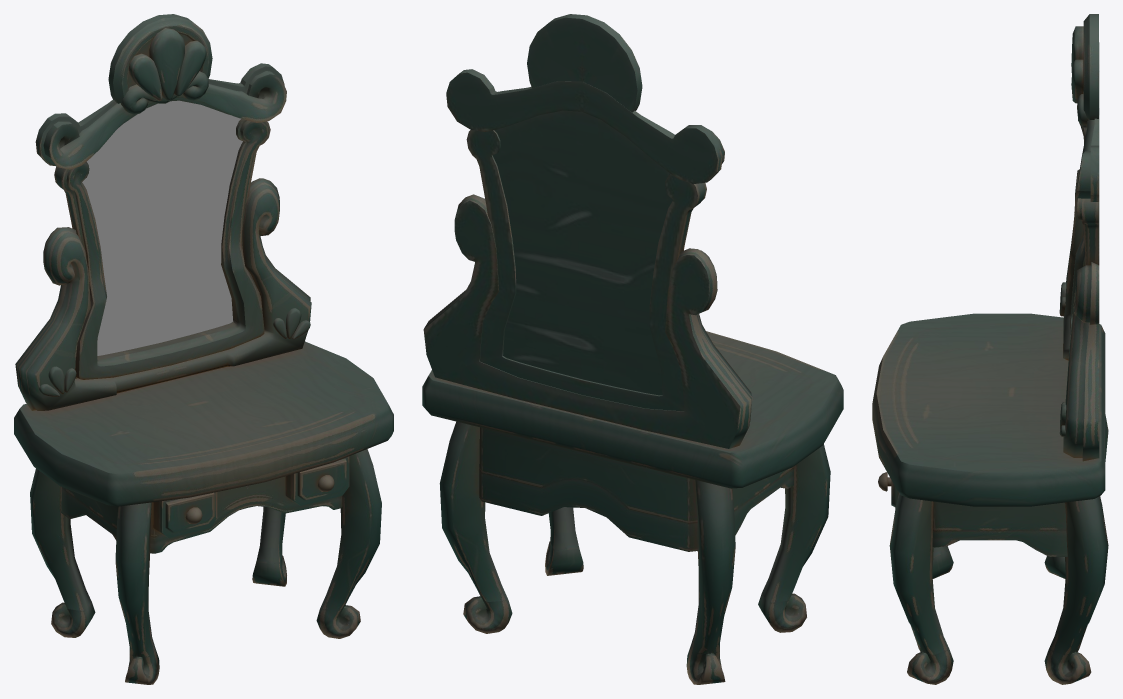
The picture shows the model from 3 angles, left to right: view 1: azimuth 30°, elevation 25°; view 2: azimuth 150°, elevation 25°; view 3: azimuth 270°, elevation 25°; orthographic projection. The views are drawn at different scales.
Visible parts, largest first — view 1: desk_low, mirror_low, frameSwirl_low, frame_low, frameSwirlTop_low, leg_low, leg_low1, leg_low2, skirt_low, circle_low, box_low1, leg_low3 (+5 smaller); view 2: mirror_low, desk_low, frameSwirl_low, skirt_low, frame_low, frameSwirlTop_low, leg_low3, circle_low, leg_low2, leg_low1, leg_low; view 3: desk_low, frameSwirl_low, leg_low, leg_low3, skirt_low, circle_low, frame_low, frameSwirlTop_low, leg_low1, leg_low2, dropTopB_low, dropTopA_low.
Part boxes in pixels (bbox=[...]): desk_low: bbox=[14, 341, 393, 506]; mirror_low: bbox=[82, 100, 242, 355]; frameSwirl_low: bbox=[15, 178, 311, 410]; frame_low: bbox=[54, 119, 270, 379]; frameSwirlTop_low: bbox=[35, 63, 286, 169]; leg_low: bbox=[316, 449, 381, 638]; leg_low1: bbox=[115, 502, 159, 684]; leg_low2: bbox=[30, 468, 95, 637]; skirt_low: bbox=[61, 476, 342, 553]; circle_low: bbox=[108, 14, 212, 103]; box_low1: bbox=[153, 492, 217, 537]; leg_low3: bbox=[252, 506, 286, 586]; mirror_low: bbox=[492, 110, 672, 395]; desk_low: bbox=[422, 331, 843, 488]; frameSwirl_low: bbox=[423, 194, 752, 448]; skirt_low: bbox=[479, 427, 793, 551]; frame_low: bbox=[466, 130, 706, 411]; frameSwirlTop_low: bbox=[446, 69, 724, 183]; leg_low3: bbox=[439, 421, 512, 633]; circle_low: bbox=[527, 14, 642, 112]; leg_low2: bbox=[686, 480, 735, 684]; leg_low1: bbox=[758, 444, 830, 632]; leg_low: bbox=[545, 507, 583, 575]; desk_low: bbox=[872, 313, 1105, 506]; frameSwirl_low: bbox=[1063, 169, 1099, 461]; leg_low: bbox=[889, 493, 953, 684]; leg_low3: bbox=[1044, 496, 1108, 684]; skirt_low: bbox=[932, 501, 1067, 556]; circle_low: bbox=[1083, 14, 1099, 119]; frame_low: bbox=[1070, 103, 1098, 334]; frameSwirlTop_low: bbox=[1075, 42, 1099, 201]; leg_low1: bbox=[932, 546, 953, 578]; leg_low2: bbox=[1044, 414, 1108, 578]; dropTopB_low: bbox=[1071, 59, 1083, 103]; dropTopA_low: bbox=[1071, 26, 1083, 90].
Bounding box in the file's own units: 1.15 × 2 × 0.7027.
1 material, 1 textured.
